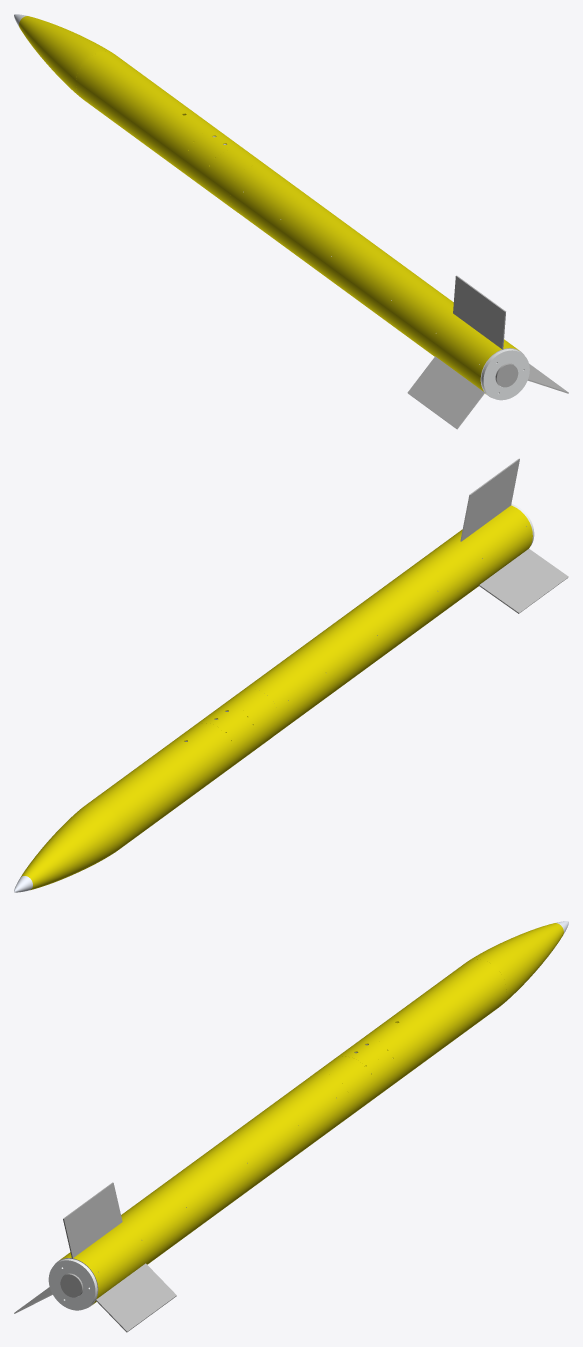
Rendered from güzelroketim.gltf.
The picture shows the model from 3 angles, top to bottom: view 1: azimuth 30°, elevation 25°; view 2: azimuth 150°, elevation 25°; view 3: azimuth 330°, elevation 25°; orthographic projection.
Parts seen in each view (by area): view 1: Parça-8(son)-1, AnaGövde-1, TipE-CamElyaf-BurunKonisi-1, kanat part1(son)-1, kanat part1(son)-5, motor arka kapak1-2, Kapak-1; view 2: Parça-8(son)-1, AnaGövde-1, TipE-CamElyaf-BurunKonisi-1, kanat part1(son)-1, kanat part1(son)-5, Kapak-1; view 3: Parça-8(son)-1, AnaGövde-1, TipE-CamElyaf-BurunKonisi-1, kanat part1(son)-6, kanat part1(son)-5, motor arka kapak1-2, Kapak-1.
Boxes of the visible parts, x1=… form: Parça-8(son)-1: x1=230, y1=164, x2=524, y2=398; AnaGövde-1: x1=76, y1=52, x2=268, y2=212; TipE-CamElyaf-BurunKonisi-1: x1=19, y1=16, x2=113, y2=97; kanat part1(son)-1: x1=407, y1=356, x2=485, y2=429; kanat part1(son)-5: x1=453, y1=275, x2=505, y2=349; motor arka kapak1-2: x1=481, y1=349, x2=529, y2=400; Kapak-1: x1=191, y1=131, x2=246, y2=159; Parça-8(son)-1: x1=241, y1=505, x2=532, y2=734; AnaGövde-1: x1=86, y1=689, x2=280, y2=849; TipE-CamElyaf-BurunKonisi-1: x1=20, y1=803, x2=124, y2=890; kanat part1(son)-1: x1=479, y1=549, x2=568, y2=613; kanat part1(son)-5: x1=460, y1=458, x2=519, y2=541; Kapak-1: x1=194, y1=705, x2=249, y2=734; Parça-8(son)-1: x1=54, y1=1073, x2=350, y2=1308; AnaGövde-1: x1=313, y1=959, x2=506, y2=1120; TipE-CamElyaf-BurunKonisi-1: x1=467, y1=923, x2=563, y2=1006; kanat part1(son)-6: x1=95, y1=1263, x2=176, y2=1332; kanat part1(son)-5: x1=63, y1=1182, x2=122, y2=1258; motor arka kapak1-2: x1=48, y1=1258, x2=97, y2=1310; Kapak-1: x1=334, y1=1039, x2=389, y2=1067.
Size of the model in its own units: 0.3029 by 0.2736 by 2.32.
